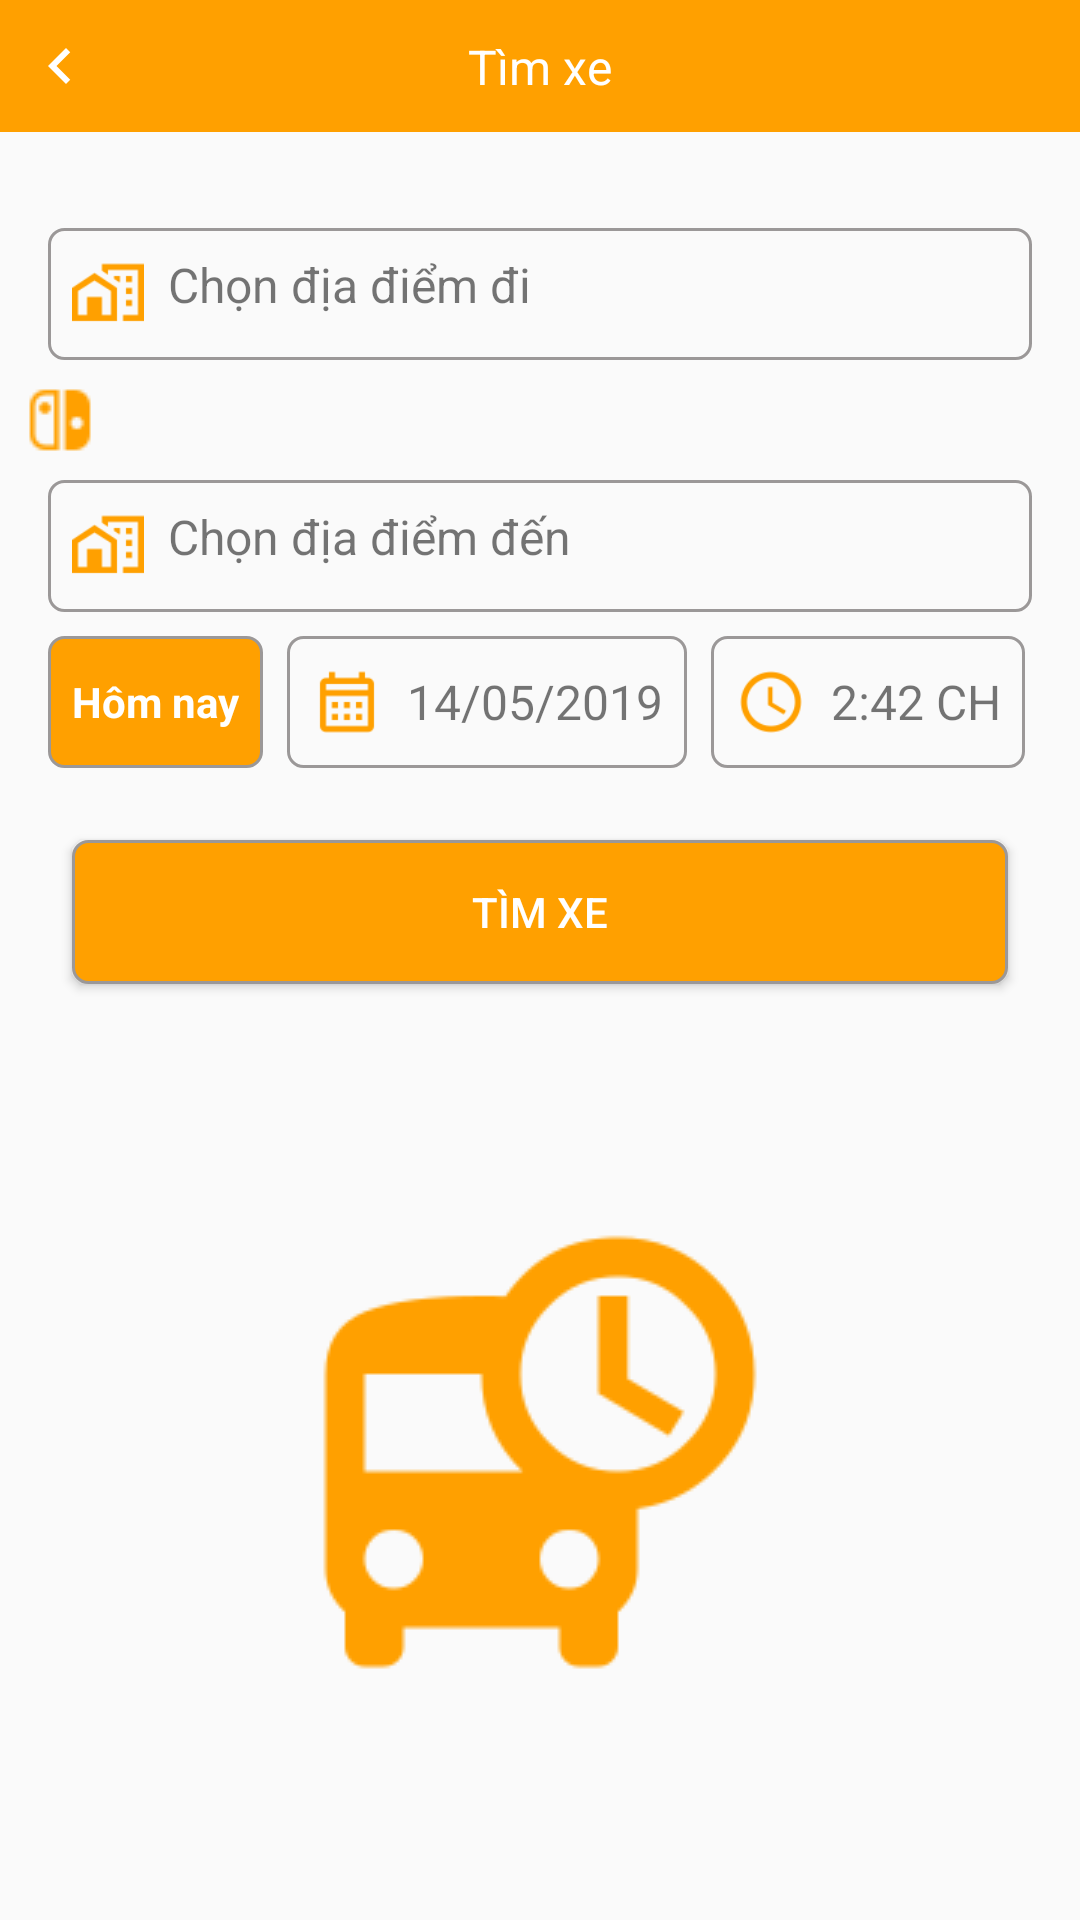

Icon click points for this 1080×1920 phone screenshot, format (x,y):
back: (59,66)
calendar: (347,702)
house: (108,292), (108,544)
time: (771,702)
